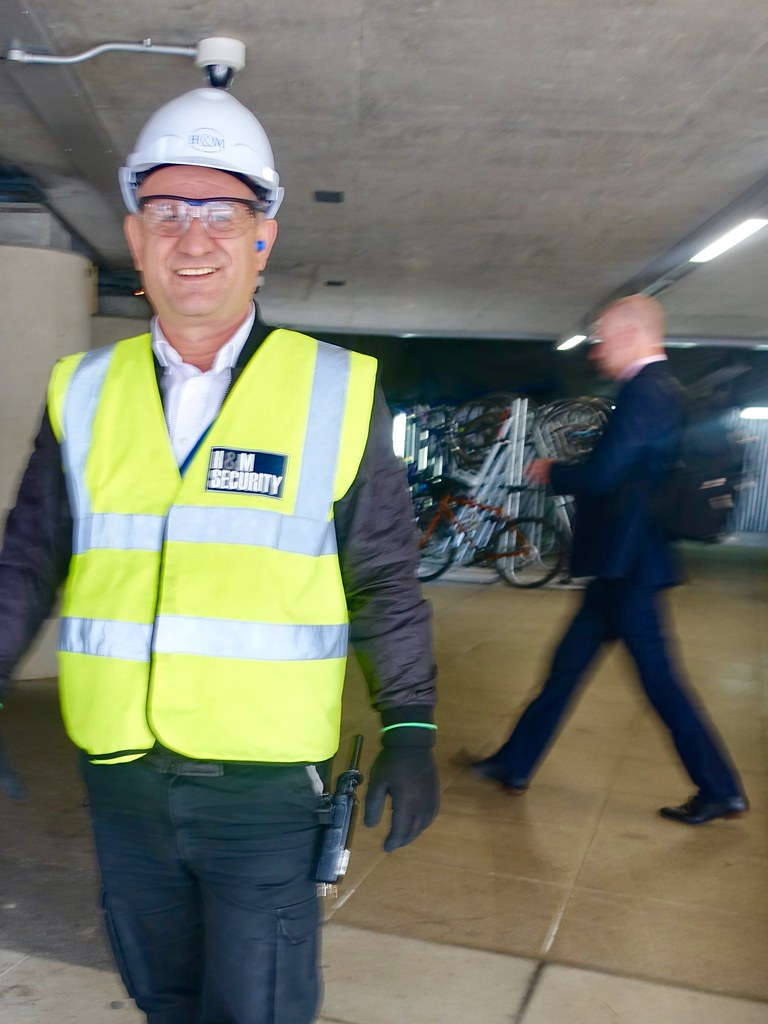Hard Hat: (105, 94, 286, 331)
Person: (1, 89, 438, 1022), (451, 304, 750, 826)
Vest: (53, 173, 366, 766)
